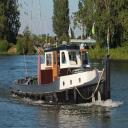tugboat: (10, 36, 112, 109)
